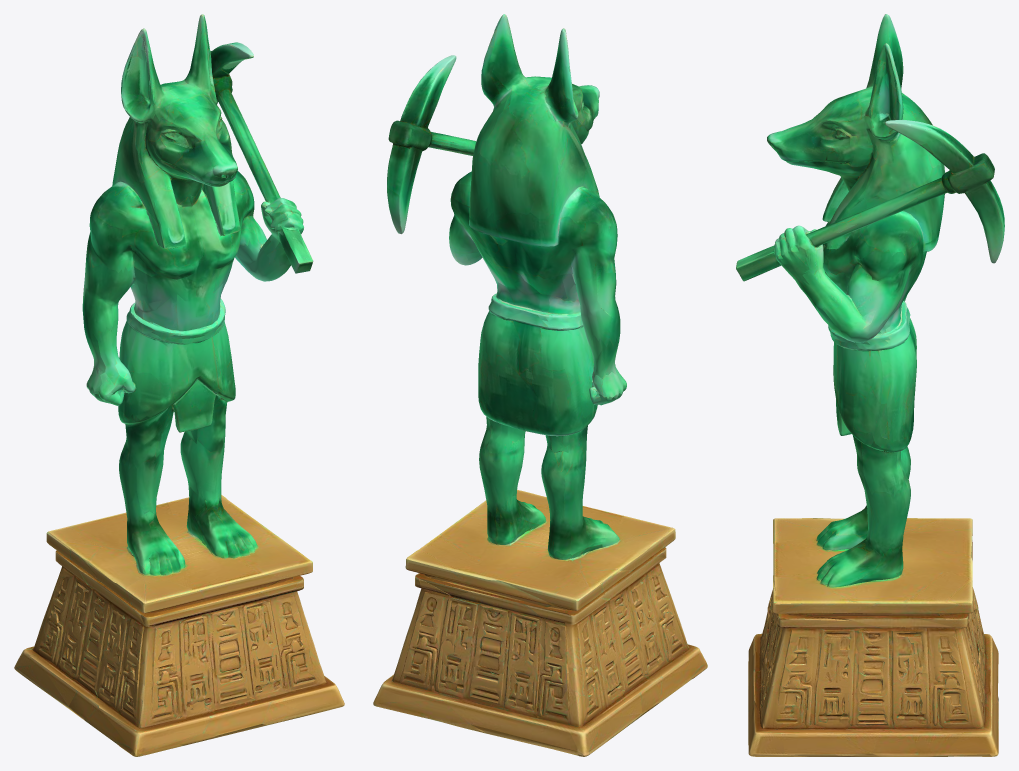
File: et_emstatue.glb
3 renders of one model, left to right at view 1: azimuth 30°, elevation 25°; view 2: azimuth 150°, elevation 25°; view 3: azimuth 270°, elevation 25°, orthographic. The views are drawn at different scales.
Size of the model in its own units: 0.6353 by 1.9 by 0.6835.
Materials: 1 (1 with a texture image).
